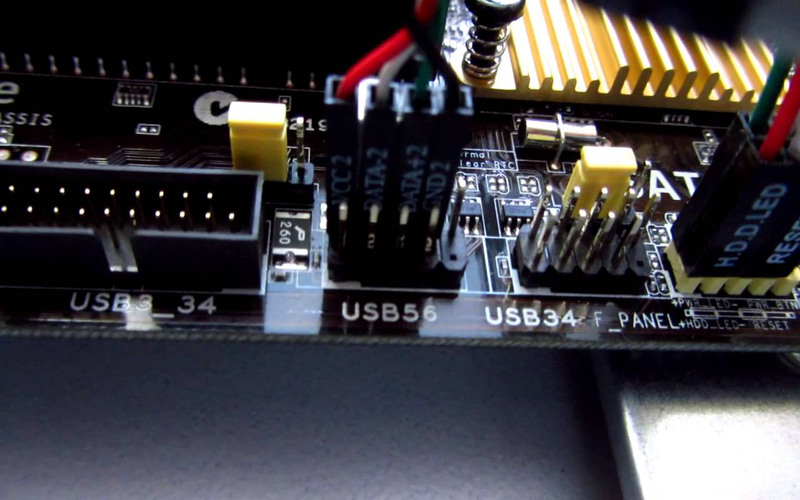Cirtuit-Board: (6, 70, 800, 394)
